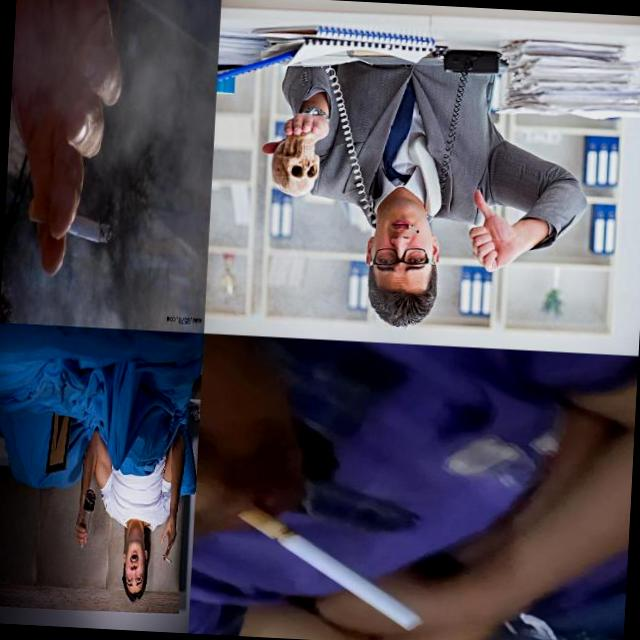smoke: (229, 504, 426, 632), (27, 198, 114, 245), (406, 224, 421, 234), (162, 553, 174, 565)
